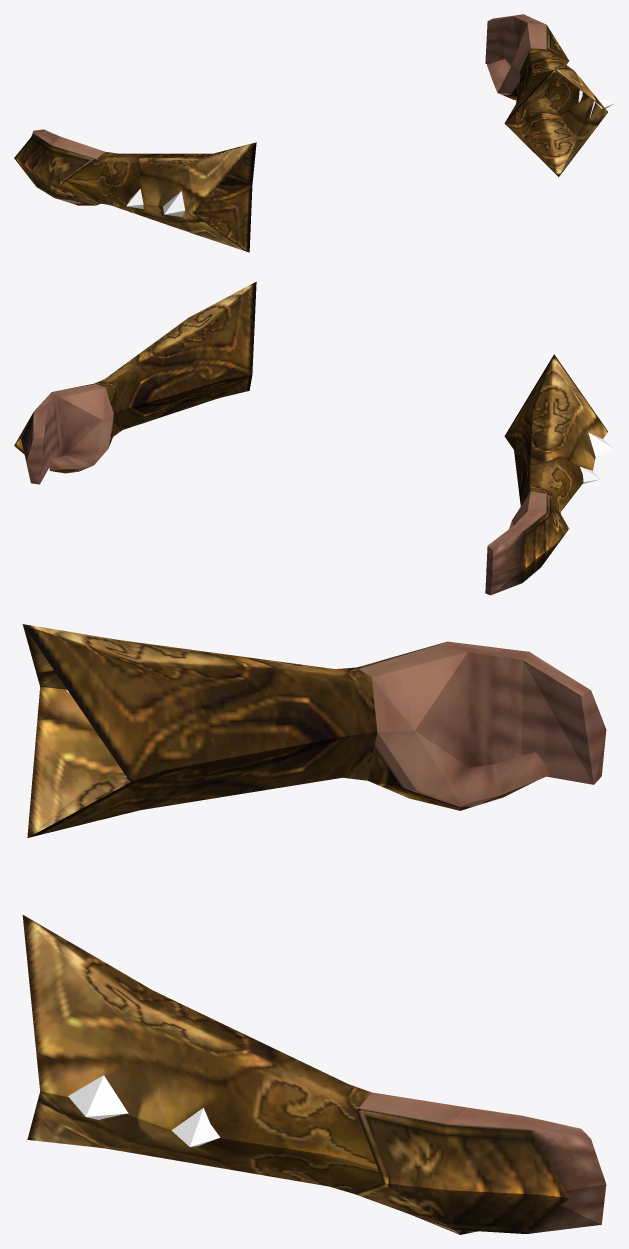
File: knight_glove_male_36110.obj
3 views of the same model, one above another, from view 1: azimuth 30°, elevation 25°; view 2: azimuth 150°, elevation 25°; view 3: azimuth 270°, elevation 25° (orthographic). The views are drawn at different scales.
Visible parts, largest first — view 1: knight_glove_male_36110; view 2: knight_glove_male_36110; view 3: knight_glove_male_36110.
Part boxes in pixels (bbox=[...]): knight_glove_male_36110: bbox=[14, 14, 614, 252]; knight_glove_male_36110: bbox=[14, 281, 614, 595]; knight_glove_male_36110: bbox=[22, 624, 606, 1234].
Size of the model in its own units: 44.83 by 10.53 by 21.97.
1 material, 1 textured.
